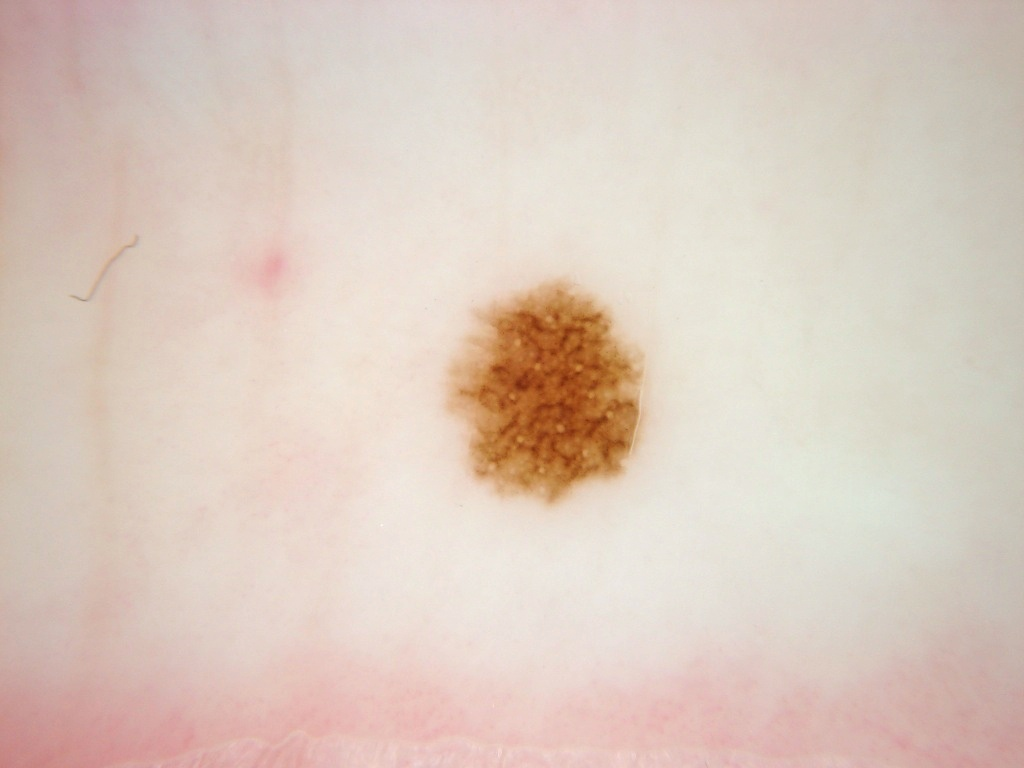Detected Lesion: (442, 272, 648, 506)
